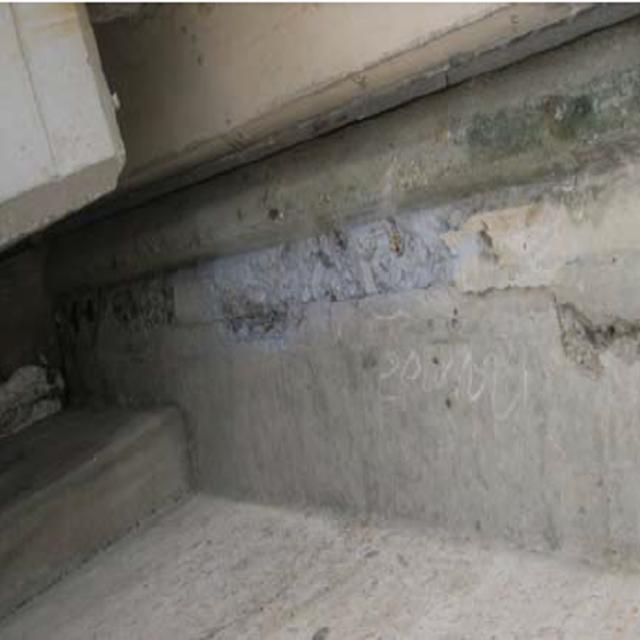spalling: (196, 203, 498, 346)
